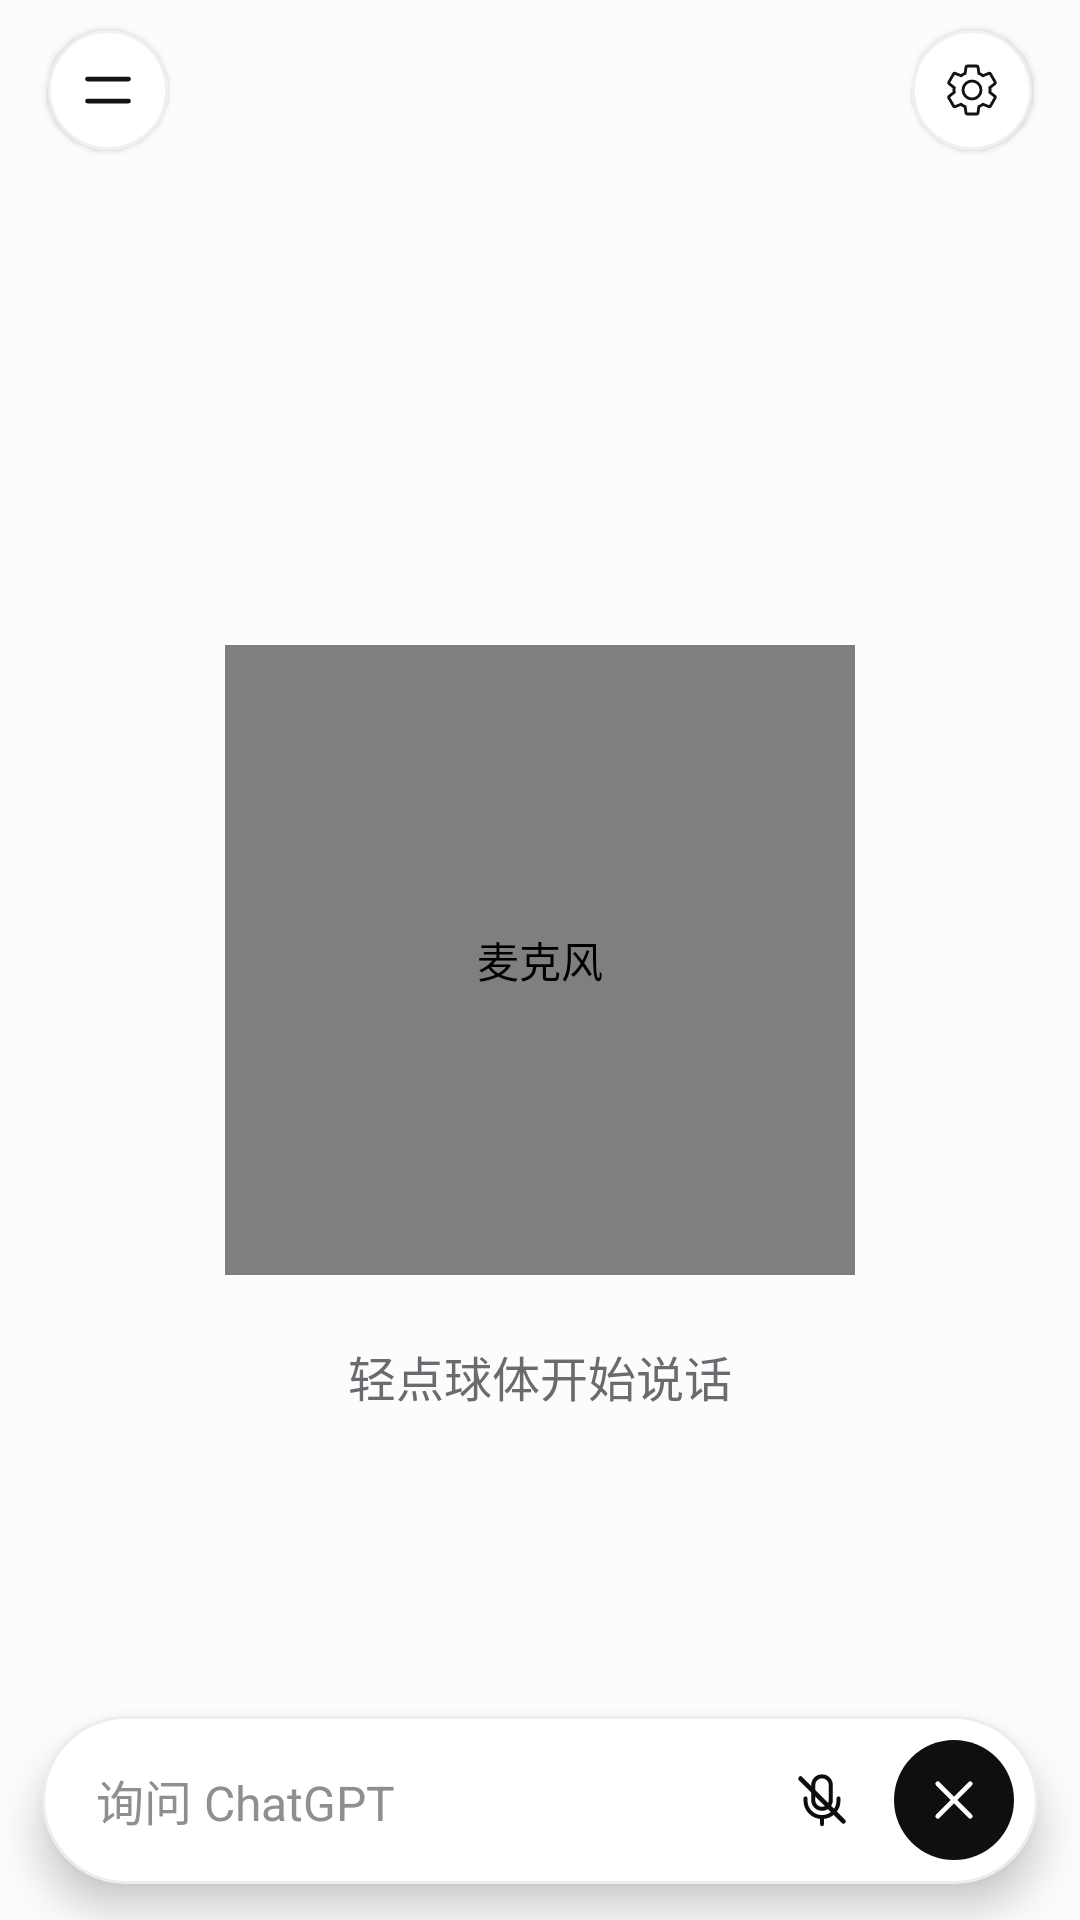

Icon bounding boxes for this 1080 x 1920 phone screenshot, format (x1, y1, x2, y2):
关闭: (894, 1740, 1014, 1860)
菜单: (48, 30, 131, 150)
设置: (947, 30, 1032, 150)
语音输入: (798, 1774, 846, 1826)
